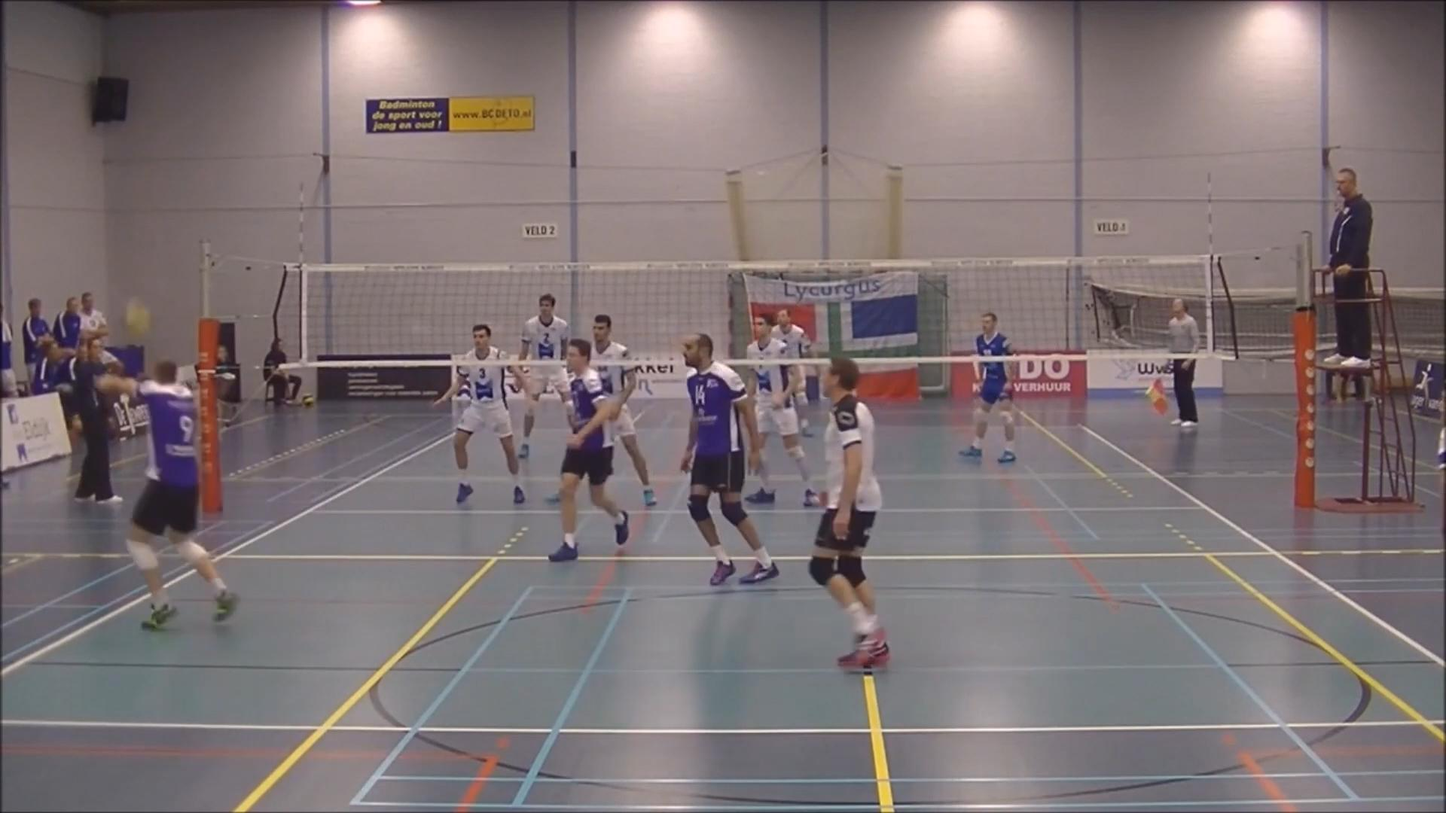Dig: (96, 361, 237, 629)
Player: (809, 358, 889, 668), (681, 336, 778, 586), (549, 340, 630, 562), (434, 324, 525, 504), (746, 317, 817, 506), (592, 314, 656, 507), (519, 294, 572, 458), (960, 312, 1016, 462), (771, 309, 811, 359)
